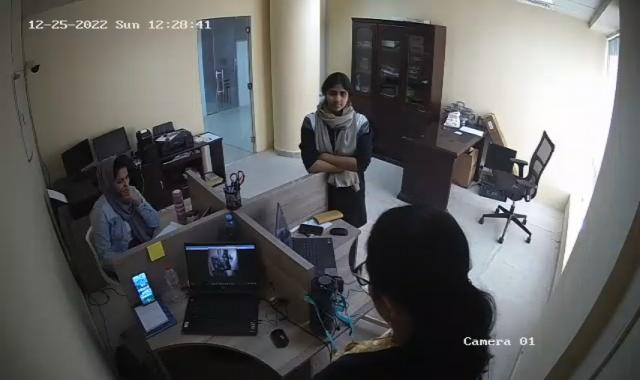no_hairnet: (356, 203, 488, 326), (320, 69, 350, 112), (96, 156, 130, 187)
